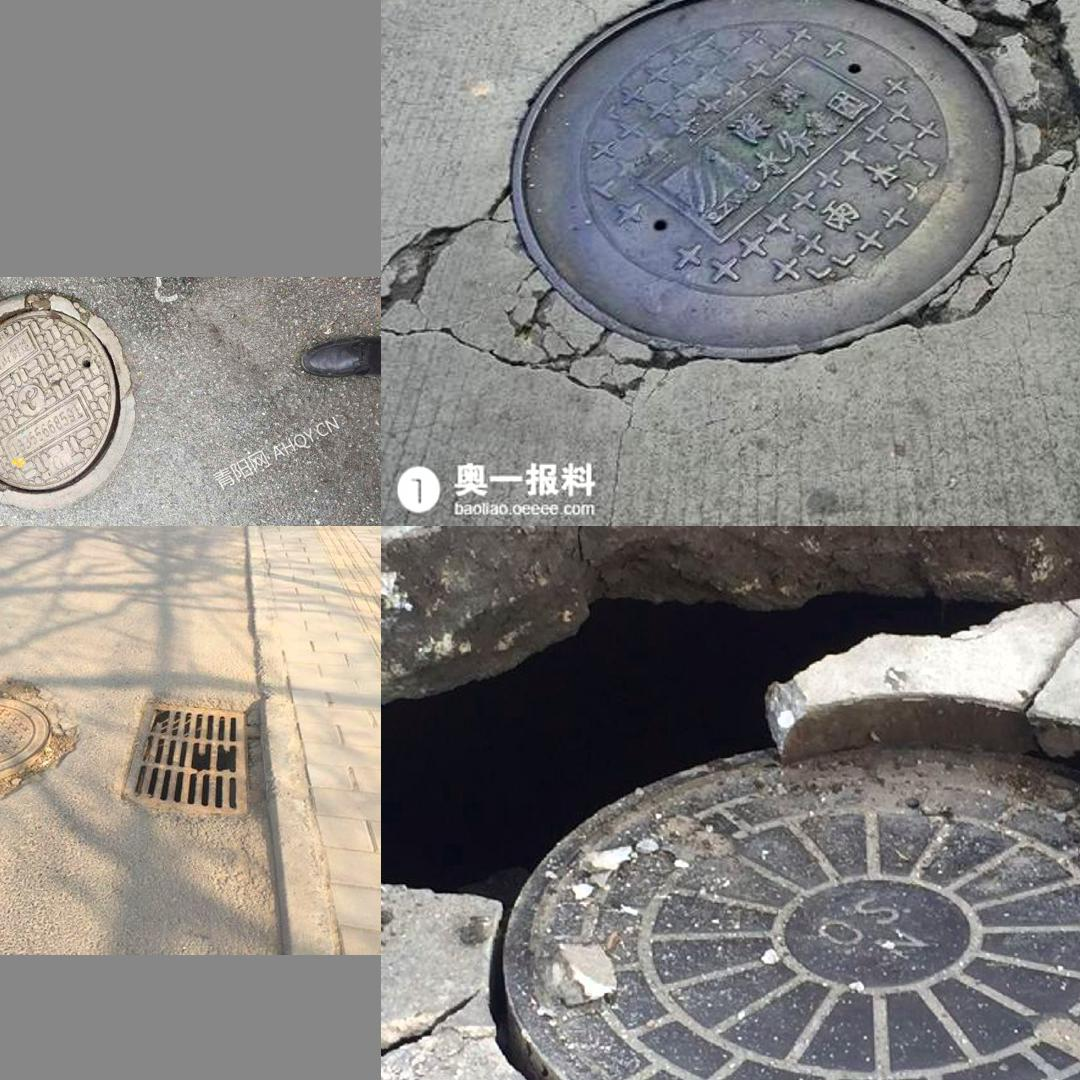circle: (397, 549, 1080, 1080), (397, 0, 1080, 397), (0, 287, 151, 516), (0, 665, 85, 814)
